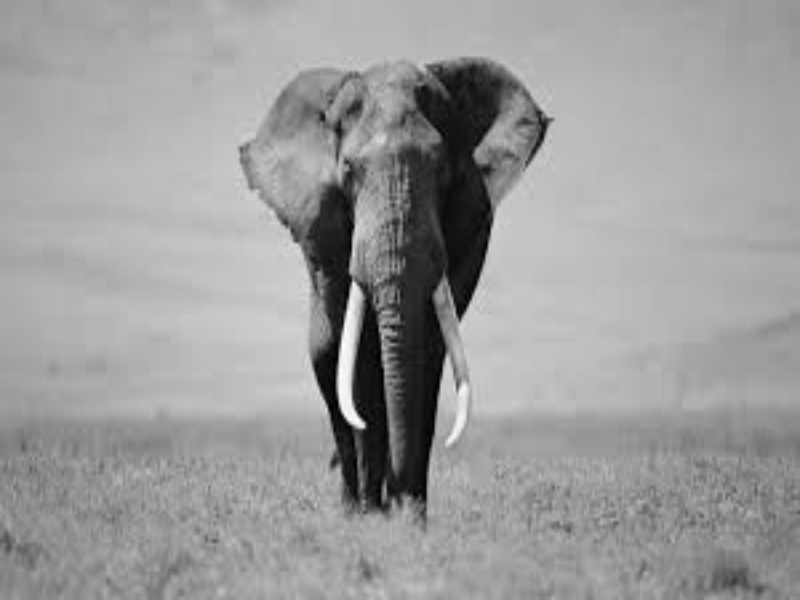elephant: (231, 51, 561, 538)
